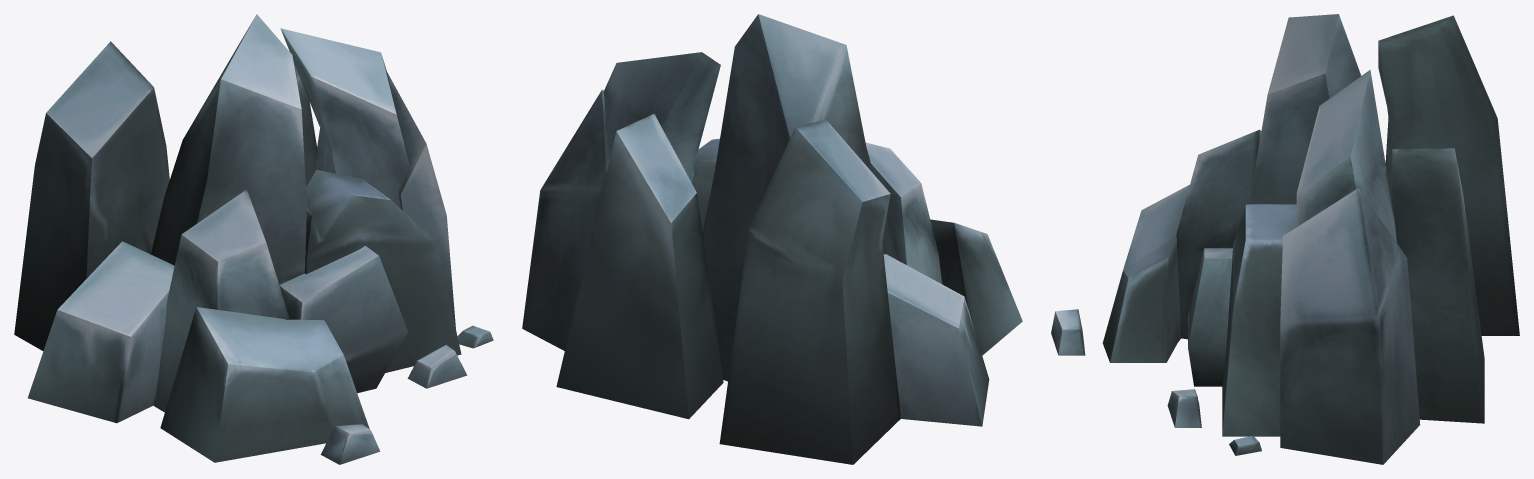
File: Mine-able_Stone.fbx
3 renders of one model, left to right at view 1: azimuth 30°, elevation 25°; view 2: azimuth 150°, elevation 25°; view 3: azimuth 270°, elevation 25°, orthographic. The views are drawn at different scales.
Visible parts, largest first — view 1: Mine_able_Stone; view 2: Mine_able_Stone; view 3: Mine_able_Stone.
Boxes of the visible parts, x1,y1,x2,y2 form: Mine_able_Stone: (14,14,493,464); Mine_able_Stone: (522,14,1022,464); Mine_able_Stone: (1051,14,1519,464).
Size of the model in its own units: 11.94 by 8.98 by 10.98.
